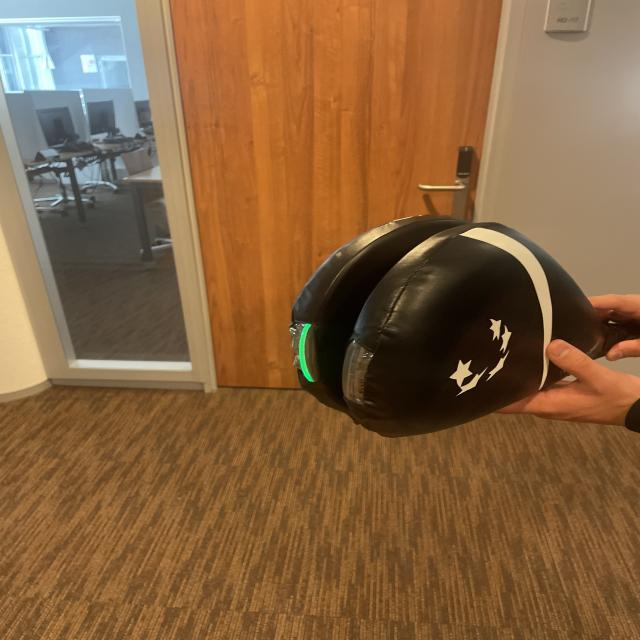paddle: (305, 222, 596, 428)
trigger: (293, 320, 321, 387)
